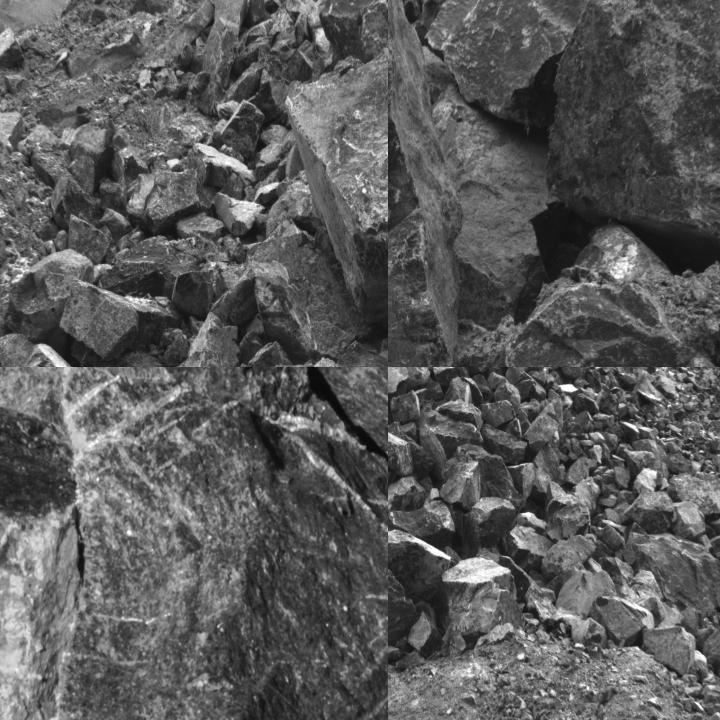stone: (0, 367, 387, 719), (0, 367, 387, 643), (533, 0, 719, 259), (446, 230, 715, 366), (290, 0, 387, 319), (414, 0, 641, 135), (437, 70, 544, 327), (388, 0, 456, 366), (0, 403, 78, 719), (242, 219, 366, 364), (434, 555, 523, 637), (60, 279, 138, 361), (687, 202, 719, 366), (388, 528, 453, 602), (142, 170, 216, 232), (266, 168, 325, 241), (166, 311, 244, 366), (321, 0, 387, 60), (199, 18, 239, 116), (420, 406, 479, 469), (388, 500, 456, 547), (463, 496, 516, 556), (591, 597, 654, 647), (546, 478, 590, 541), (50, 177, 102, 230), (642, 626, 697, 674), (220, 100, 265, 158), (388, 569, 418, 656), (439, 450, 480, 511), (667, 473, 719, 520), (624, 490, 677, 535), (543, 533, 600, 573), (169, 271, 214, 320), (504, 527, 553, 571), (522, 399, 563, 451), (3, 344, 95, 366), (480, 423, 528, 464), (532, 433, 562, 496), (406, 610, 444, 657), (388, 476, 428, 514), (388, 421, 415, 476), (670, 502, 706, 538), (0, 333, 38, 366), (572, 475, 600, 515), (478, 400, 516, 428), (255, 140, 281, 180), (389, 391, 421, 422), (0, 111, 24, 152), (704, 620, 719, 678), (433, 367, 477, 385), (567, 458, 595, 486), (599, 524, 627, 552), (219, 235, 246, 262), (388, 367, 410, 398), (558, 367, 595, 381), (218, 144, 243, 164), (505, 367, 530, 385)
